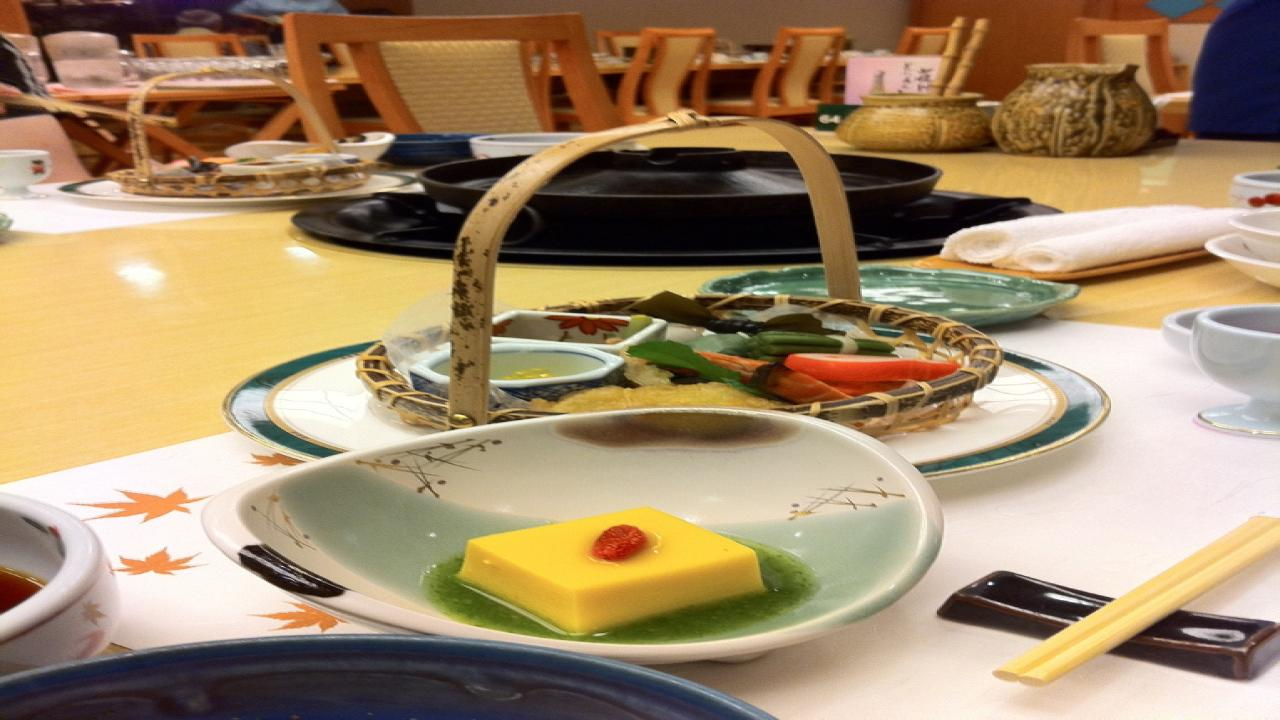chopstick: (1004, 518, 1280, 684)
